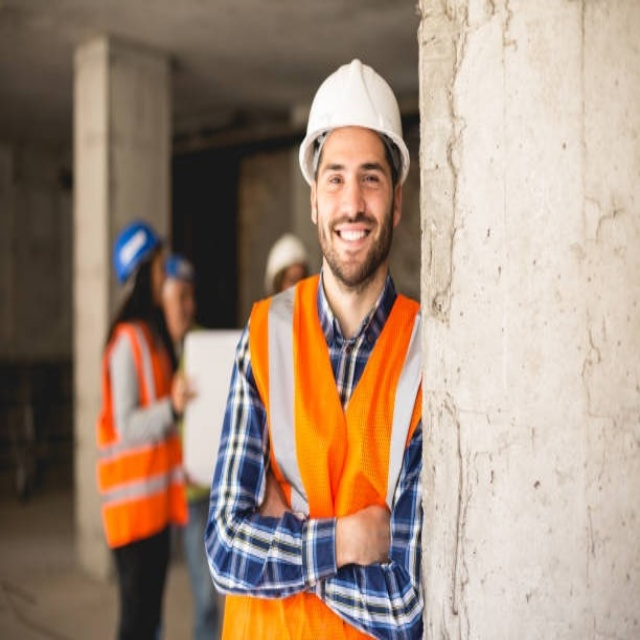Sin_gafas: (319, 154, 387, 196)
Sin_mascara: (328, 215, 374, 265)
